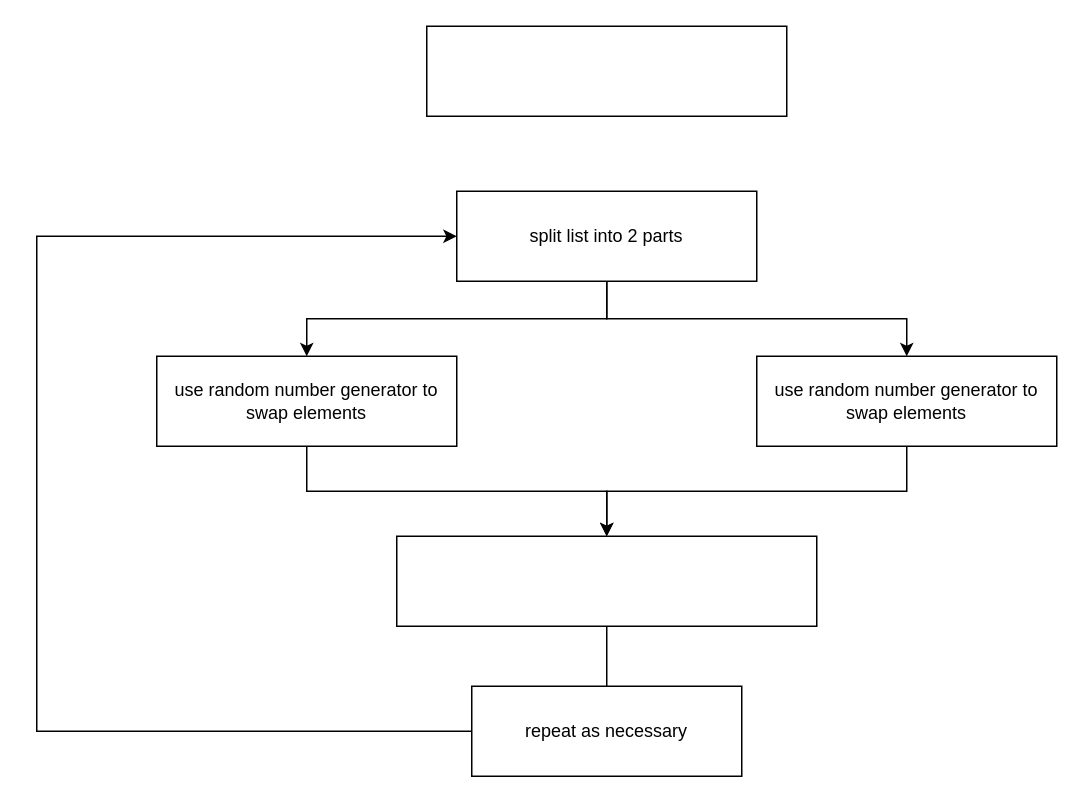
The diagram is 1083 pixels wide and 803 high, and some of its shapes have lost their labels. Each missing label, with the centre of its shape:
"combine list" belongs at point 606,580.
"SHUFFLE ALGORITHM?" belongs at point 606,70.
